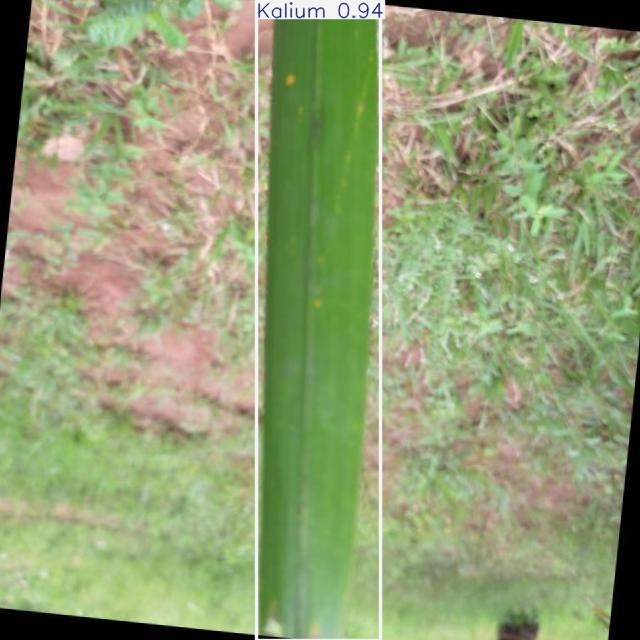Kalium: (256, 0, 380, 640)
